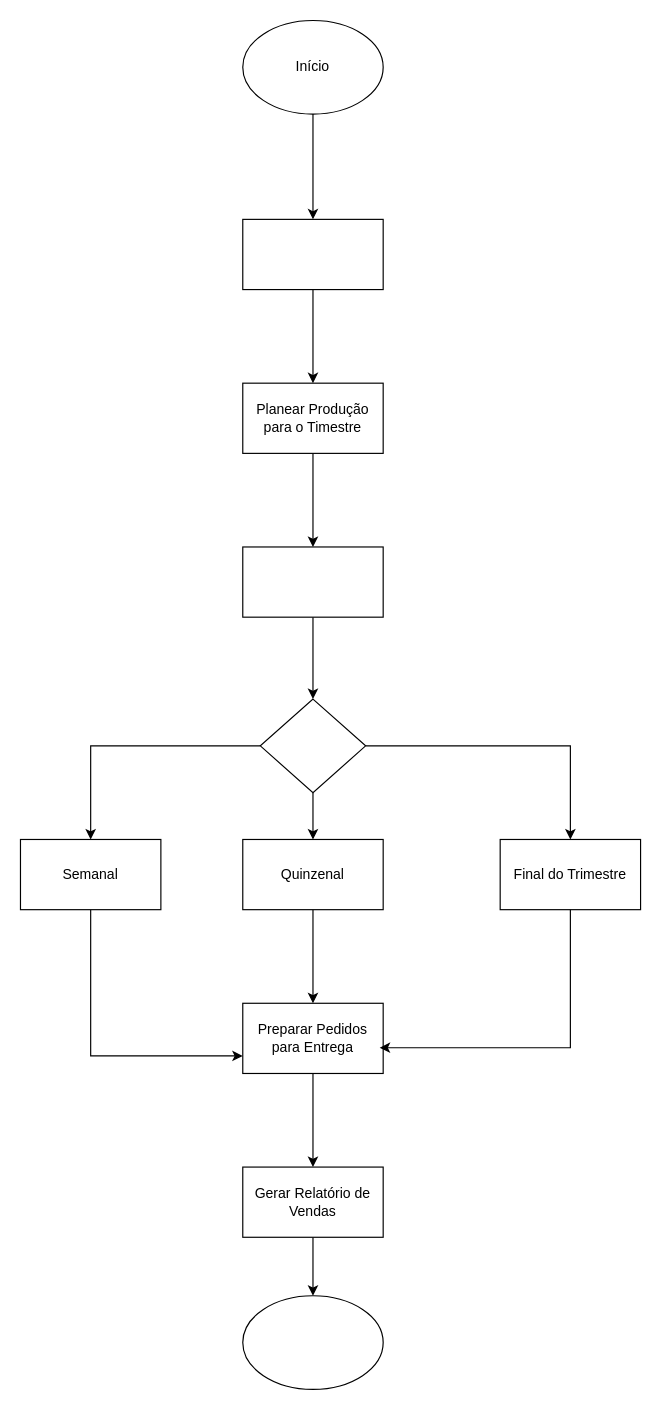
This 661x1410 diagram has some shape labels left out. Here are the shapes that lost their labels. From the top down, the centre of each, then its label:
pixel 312 254: Recebe Pedidos dos Co-Produtores
pixel 312 581: Confirmar Produção
pixel 312 745: Definir Frequência de Entrega
pixel 312 1342: Fim
